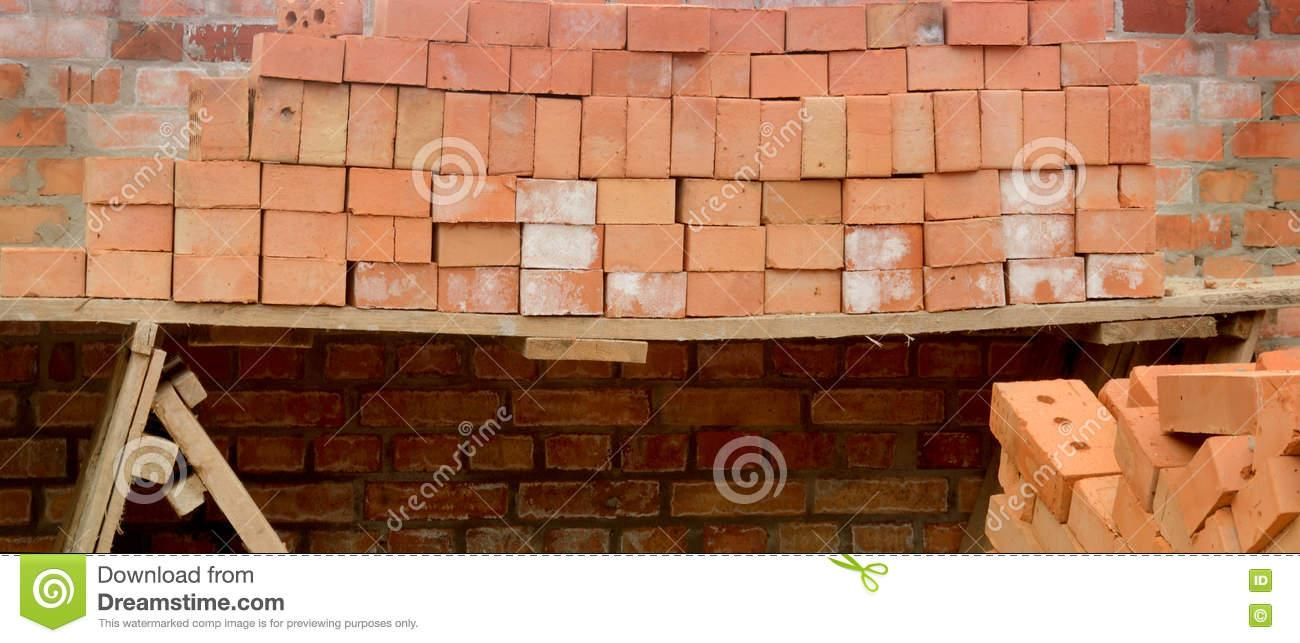brick: (925, 214, 1073, 267), (249, 76, 303, 163), (86, 249, 172, 299), (394, 87, 445, 171), (344, 34, 428, 85), (259, 32, 346, 81), (262, 256, 347, 306), (260, 164, 346, 213), (346, 213, 432, 262), (427, 42, 511, 92), (83, 156, 172, 203), (346, 85, 397, 167), (299, 82, 349, 165), (440, 92, 490, 175), (348, 167, 432, 216), (1, 249, 85, 298), (175, 160, 260, 208), (200, 77, 249, 160), (510, 47, 592, 96), (85, 205, 172, 251), (925, 262, 1005, 312), (355, 261, 436, 310), (174, 209, 260, 255), (433, 175, 516, 222), (438, 266, 519, 314), (263, 211, 347, 257), (174, 255, 258, 301), (533, 98, 581, 178), (488, 94, 534, 177), (924, 170, 1000, 220), (605, 224, 684, 272), (800, 96, 846, 178), (581, 96, 627, 178), (842, 178, 924, 224), (521, 223, 603, 269), (521, 269, 603, 315), (670, 95, 716, 176), (628, 5, 709, 51), (467, 0, 549, 45), (593, 50, 671, 97), (515, 178, 596, 223), (1075, 208, 1156, 253), (606, 273, 687, 318), (681, 179, 760, 225), (786, 5, 865, 51), (848, 95, 892, 177), (935, 91, 980, 171), (828, 49, 906, 95), (715, 98, 759, 179), (842, 270, 923, 314), (867, 2, 944, 48), (627, 97, 670, 179), (765, 224, 843, 269), (1061, 39, 1137, 85), (385, 0, 468, 42), (762, 181, 841, 225), (845, 225, 922, 270), (549, 3, 626, 48), (688, 272, 765, 317), (906, 45, 983, 90), (1008, 257, 1083, 303), (437, 224, 519, 266), (687, 227, 765, 271), (598, 179, 674, 224), (764, 269, 840, 314), (946, 2, 1027, 44), (980, 90, 1023, 169), (1077, 165, 1156, 208), (1065, 87, 1109, 164), (892, 93, 934, 173), (672, 53, 750, 96), (1087, 254, 1163, 298), (759, 101, 800, 181), (1023, 91, 1065, 169), (1029, 1, 1105, 44), (751, 54, 827, 97), (709, 8, 784, 51), (1001, 170, 1074, 214), (1109, 85, 1150, 163), (986, 46, 1060, 89)
